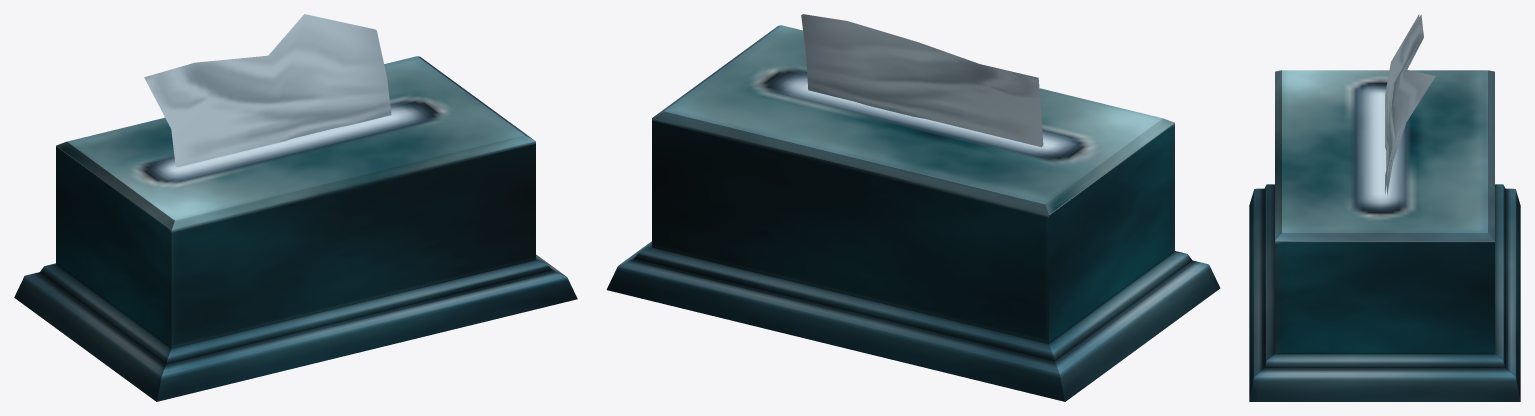
File: TouKuiZheJia_01_chouzhi_01.FBX
The picture shows the model from 3 angles, left to right: view 1: azimuth 30°, elevation 25°; view 2: azimuth 150°, elevation 25°; view 3: azimuth 270°, elevation 25°; orthographic projection. The views are drawn at different scales.
Parts seen in each view (by area): view 1: TouKuiZheJia_chouzhi_01; view 2: TouKuiZheJia_chouzhi_01; view 3: TouKuiZheJia_chouzhi_01.
Part boxes in pixels (x1,y1,x2,y2): TouKuiZheJia_chouzhi_01: (14,14,577,401); TouKuiZheJia_chouzhi_01: (606,14,1220,401); TouKuiZheJia_chouzhi_01: (1249,14,1520,401).
Bounding box in the file's own units: 233 × 135 × 136.
